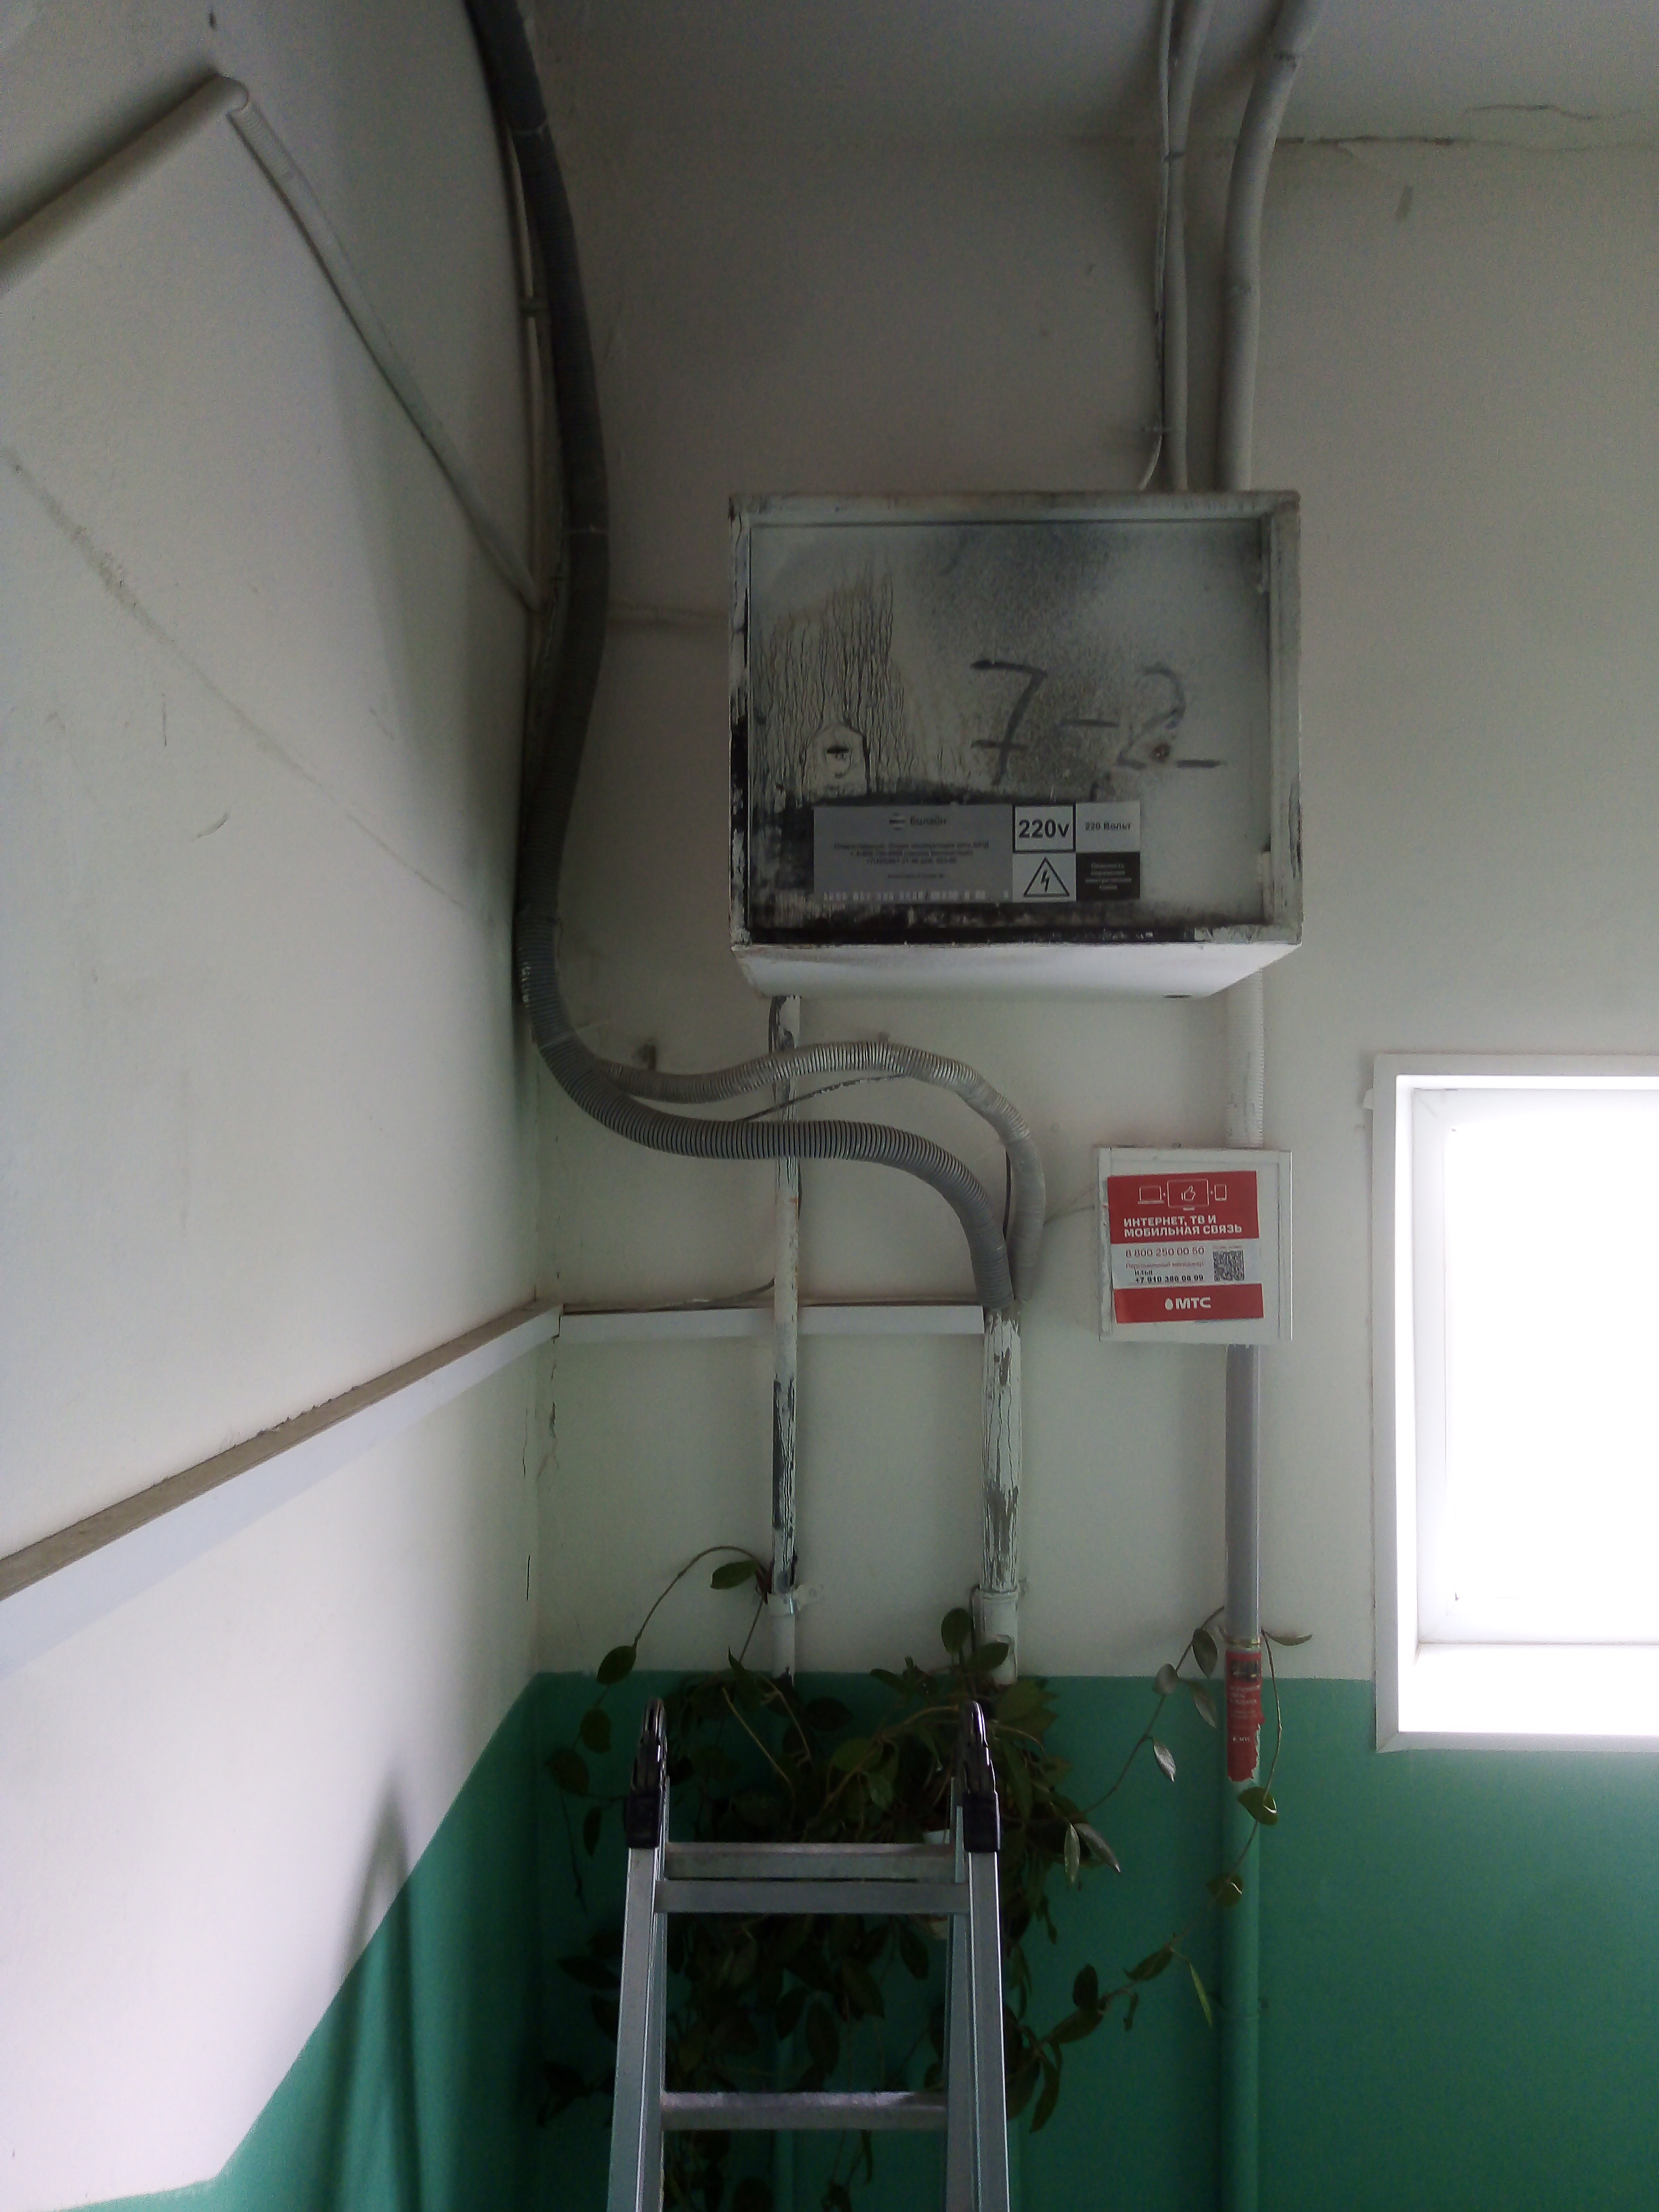shta-9m: (725, 482, 1309, 1008)
